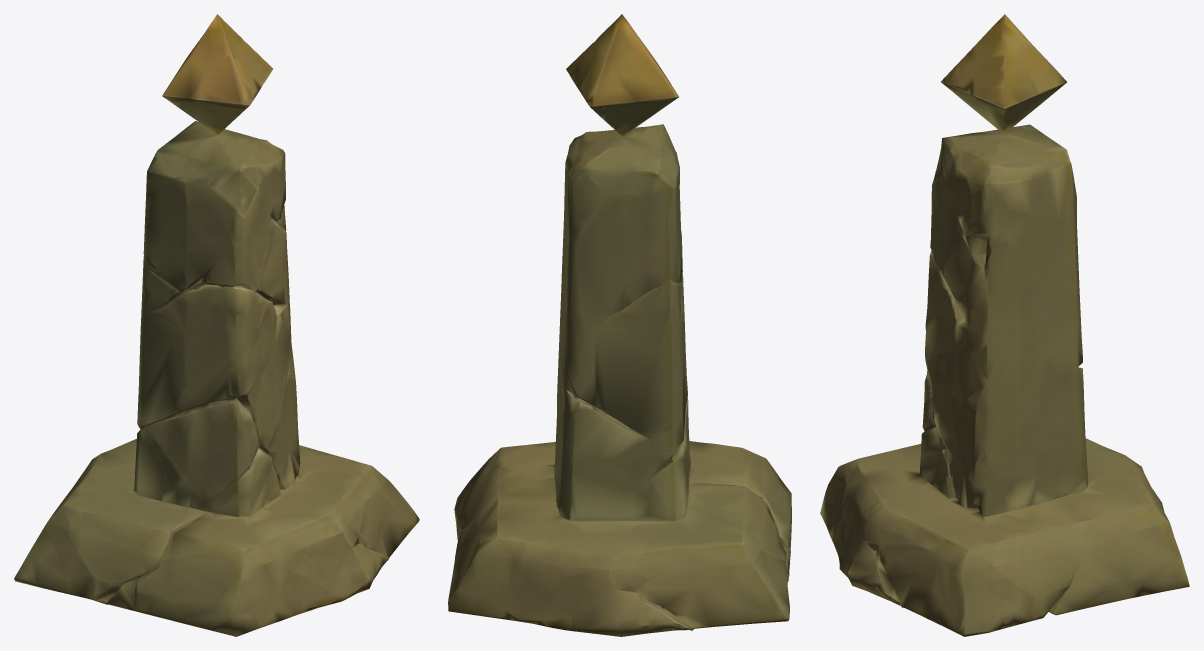
Rendered from stele.glb.
The picture shows the model from 3 angles, left to right: view 1: azimuth 30°, elevation 25°; view 2: azimuth 150°, elevation 25°; view 3: azimuth 270°, elevation 25°; orthographic projection. The views are drawn at different scales.
Parts seen in each view (by area): view 1: tripo_node_1fd2590f-2b3a-4e0b-9768-80b2853a1c63; view 2: tripo_node_1fd2590f-2b3a-4e0b-9768-80b2853a1c63; view 3: tripo_node_1fd2590f-2b3a-4e0b-9768-80b2853a1c63.
Part boxes in pixels (left/top/right/bottom): tripo_node_1fd2590f-2b3a-4e0b-9768-80b2853a1c63: left=14, top=14, right=419, bottom=636; tripo_node_1fd2590f-2b3a-4e0b-9768-80b2853a1c63: left=448, top=14, right=791, bottom=636; tripo_node_1fd2590f-2b3a-4e0b-9768-80b2853a1c63: left=820, top=14, right=1189, bottom=636.
Size of the model in its own units: 0.6979 by 0.9827 by 0.6137.
1 material, 1 textured.
